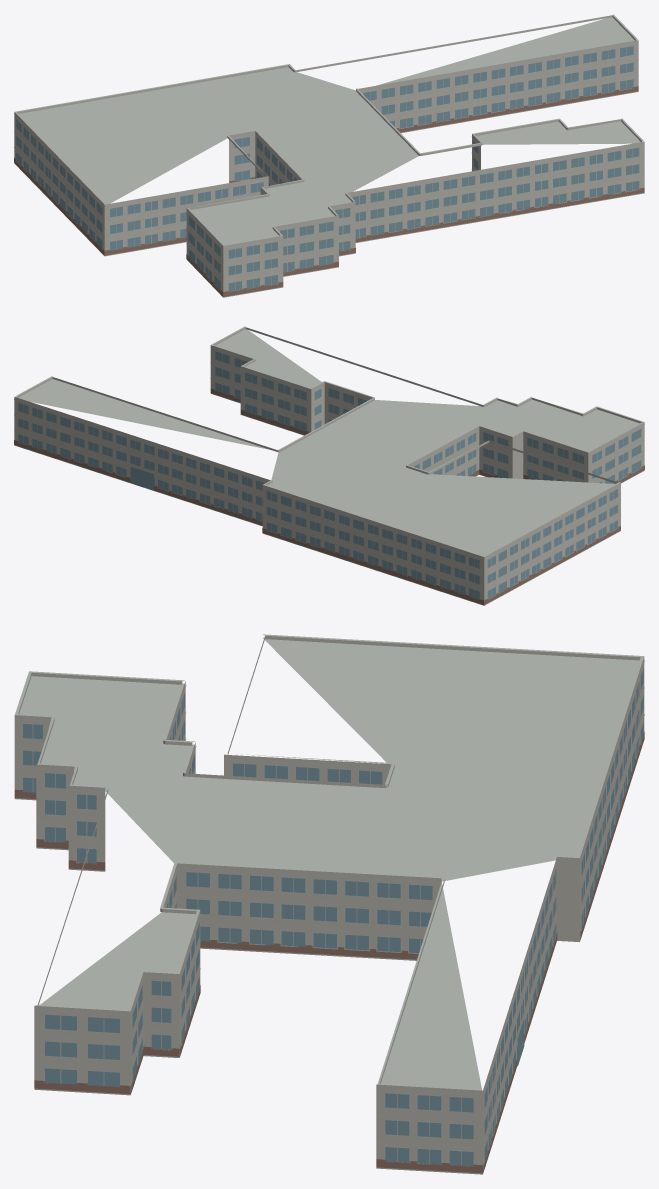
Rendered from public-b479ba34-2cbe-4f4e-b32e-c1ab16c88685.glb.
The picture shows the model from 3 angles, top to bottom: view 1: azimuth 30°, elevation 25°; view 2: azimuth 150°, elevation 25°; view 3: azimuth 270°, elevation 25°; orthographic projection. The views are drawn at different scales.
Visible parts, largest first — view 1: public-b479ba34-2cbe-4f4e-b32e-c1ab16c88685; view 2: public-b479ba34-2cbe-4f4e-b32e-c1ab16c88685; view 3: public-b479ba34-2cbe-4f4e-b32e-c1ab16c88685.
Part boxes in pixels (bbox=[...]): public-b479ba34-2cbe-4f4e-b32e-c1ab16c88685: bbox=[14, 14, 644, 297]; public-b479ba34-2cbe-4f4e-b32e-c1ab16c88685: bbox=[14, 326, 644, 605]; public-b479ba34-2cbe-4f4e-b32e-c1ab16c88685: bbox=[14, 634, 644, 1174].
Size of the model in its own units: 107 by 9.15 by 62.29.
